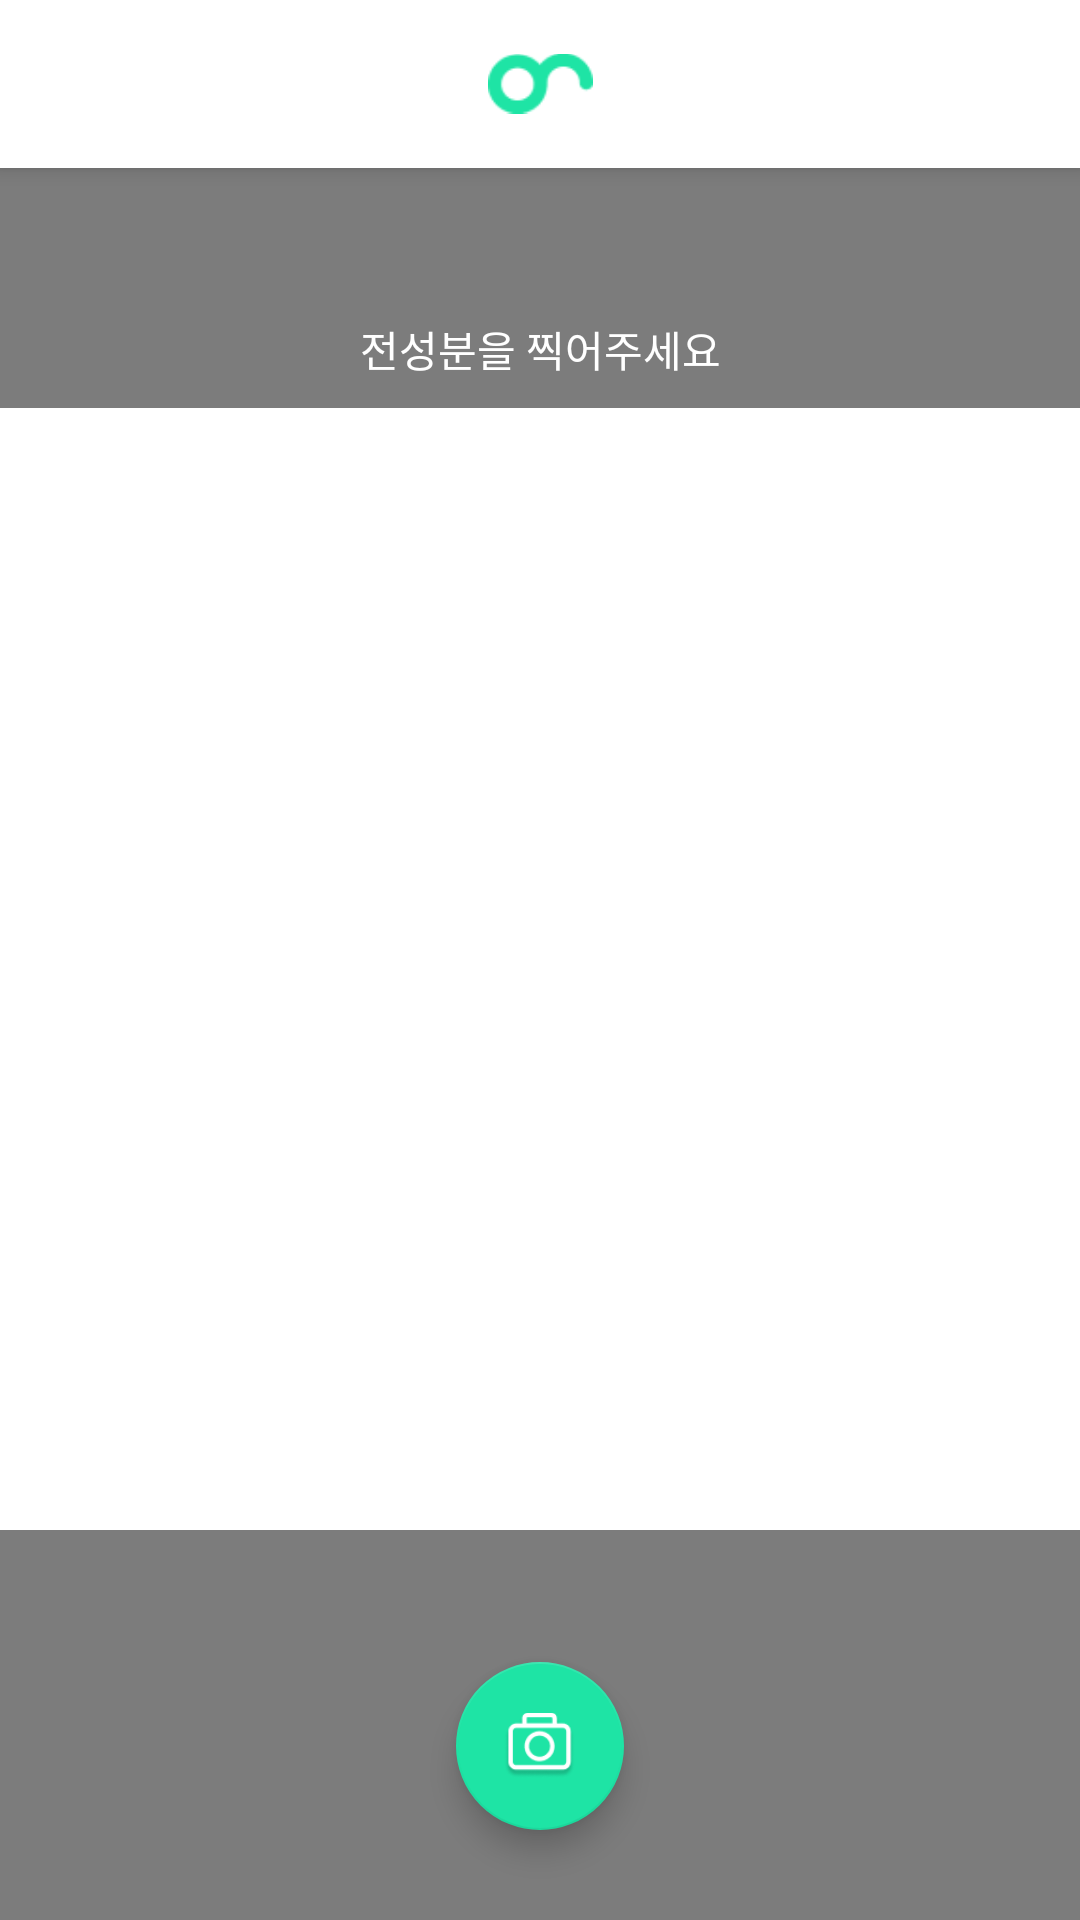

Where to tap for icons on this 1080x1920 app screen, as point (x, y):
camera: point (540, 1746)
